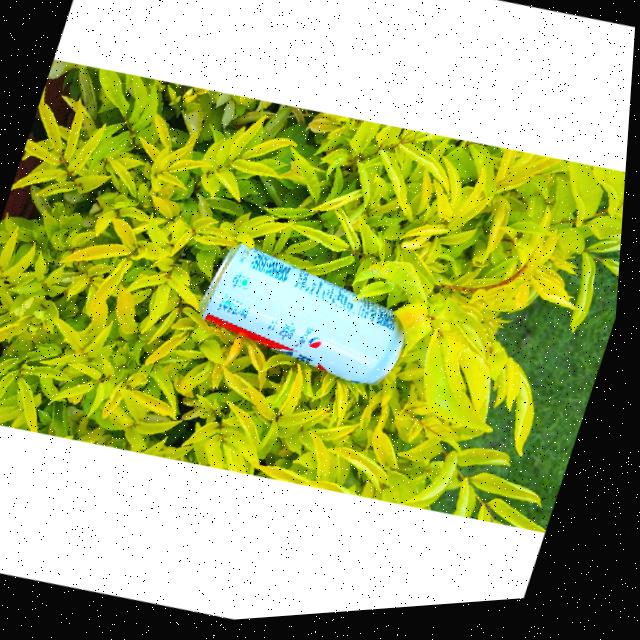Pepsi Retro: (188, 234, 430, 409)
